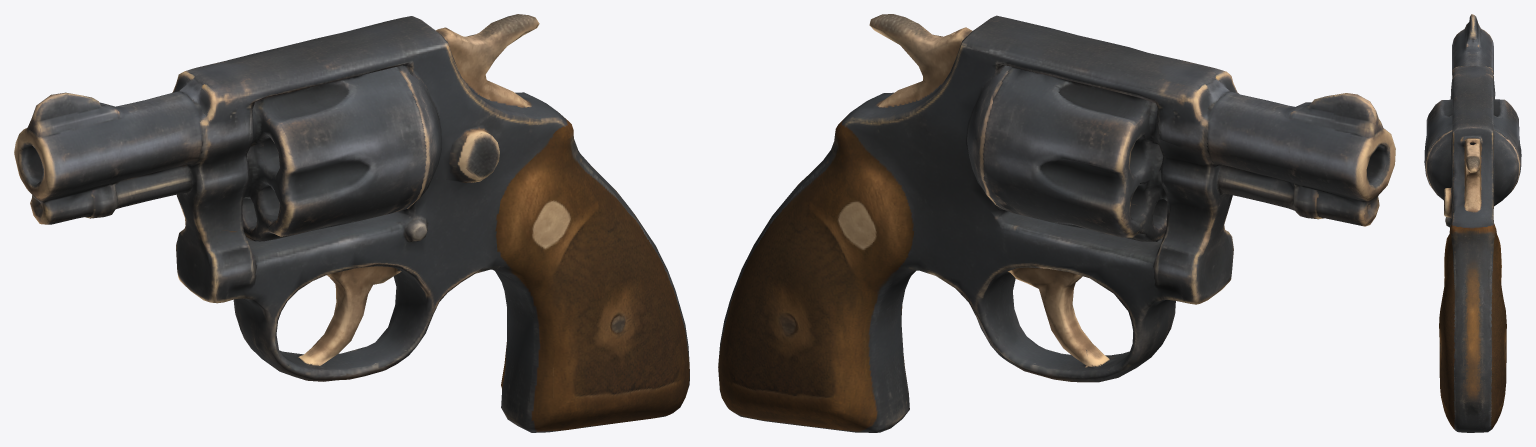
Rendered from survey-pistol.glb.
3 renders of one model, left to right at view 1: azimuth 30°, elevation 25°; view 2: azimuth 150°, elevation 25°; view 3: azimuth 270°, elevation 25°, orthographic. The views are drawn at different scales.
Bounding box in the file's own units: 0.9963 × 0.6719 × 0.2324.
Materials: 1 (1 with a texture image).
